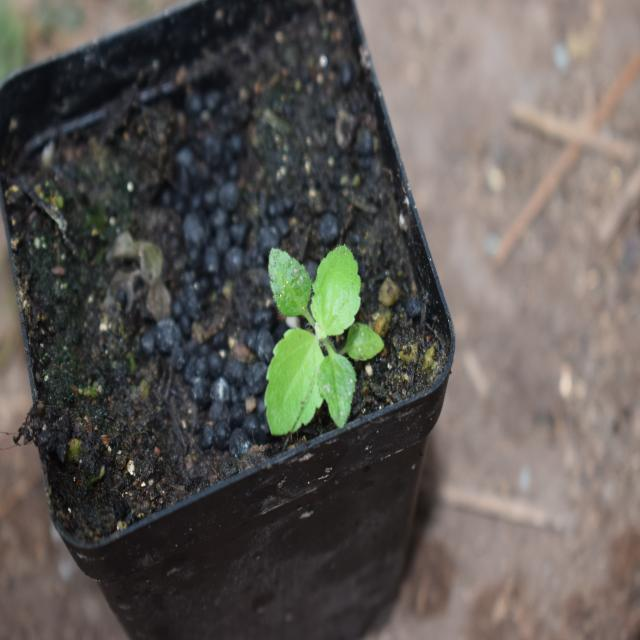billygoat_weed: (236, 236, 376, 425)
